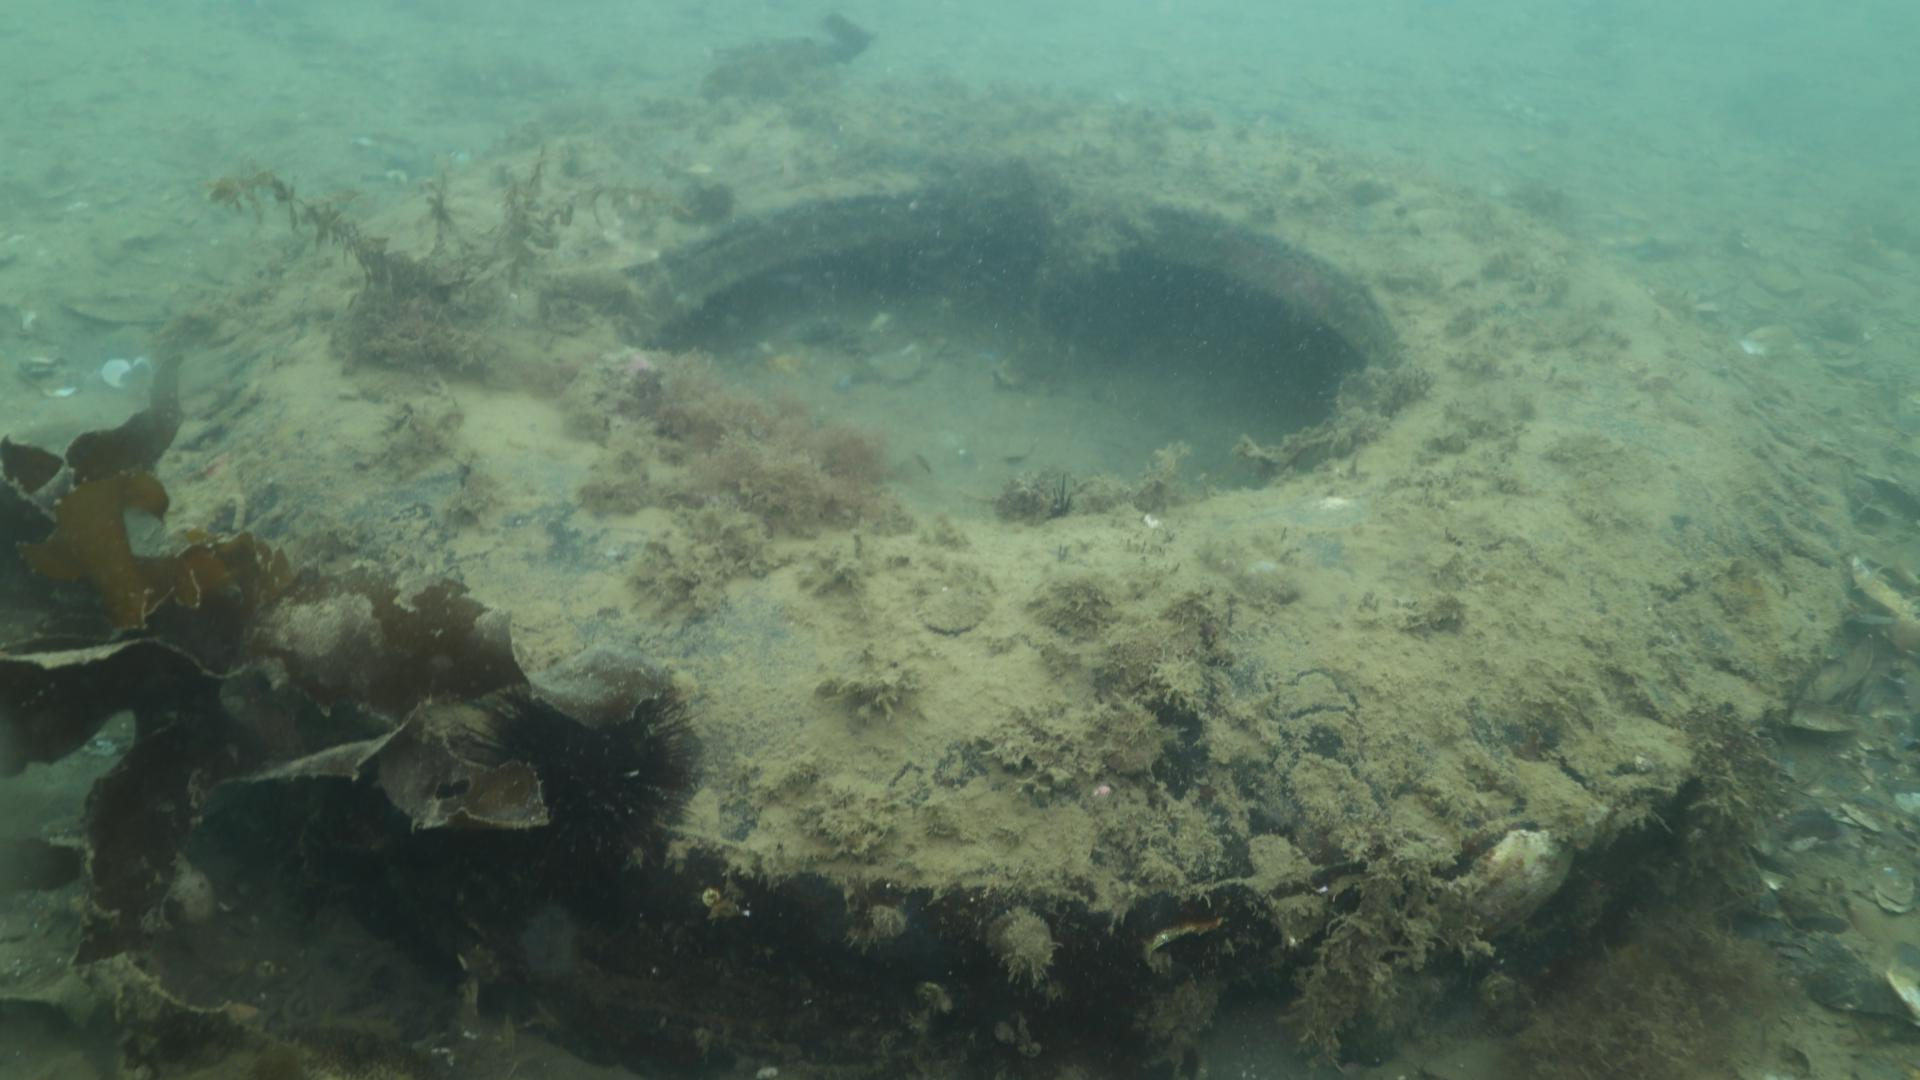tire: (154, 70, 1849, 1080)
